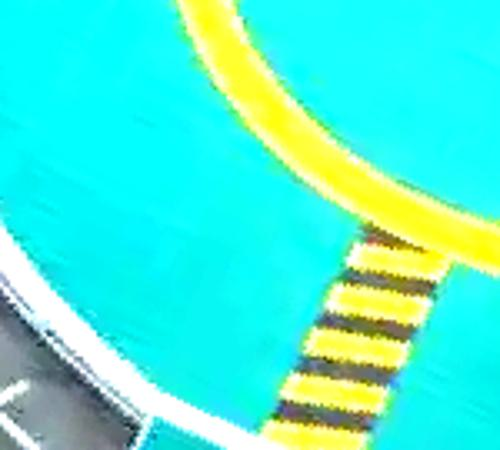Apron: (162, 1, 500, 286)
